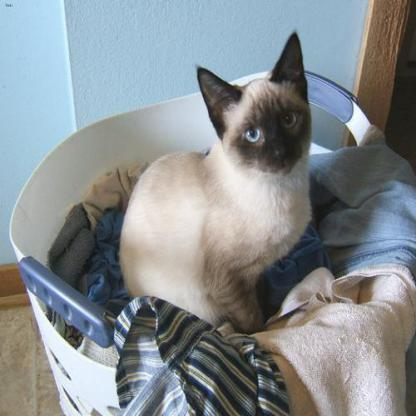cat: (120, 30, 312, 335)
